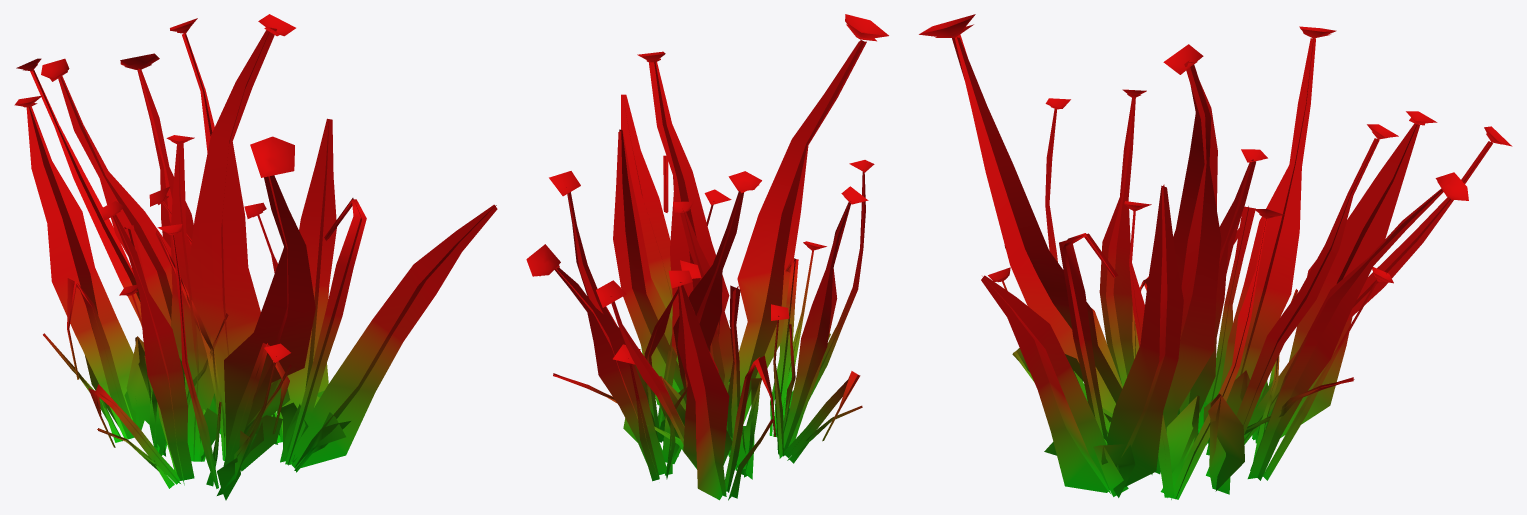
File: White Everlasting_LOD3_Var4_ucvobbbia.fbx
3 views of the same model, side by side, from view 1: azimuth 30°, elevation 25°; view 2: azimuth 150°, elevation 25°; view 3: azimuth 270°, elevation 25° (orthographic). The views are drawn at different scales.
Parts seen in each view (by area): view 1: _e415_Var4_LOD3; view 2: _e415_Var4_LOD3; view 3: _e415_Var4_LOD3.
Boxes of the visible parts, <box> form: _e415_Var4_LOD3: <box>14,14,497,500</box>; _e415_Var4_LOD3: <box>526,14,888,500</box>; _e415_Var4_LOD3: <box>919,14,1512,499</box>.
Size of the model in its own units: 47.7 by 58.77 by 69.35.
